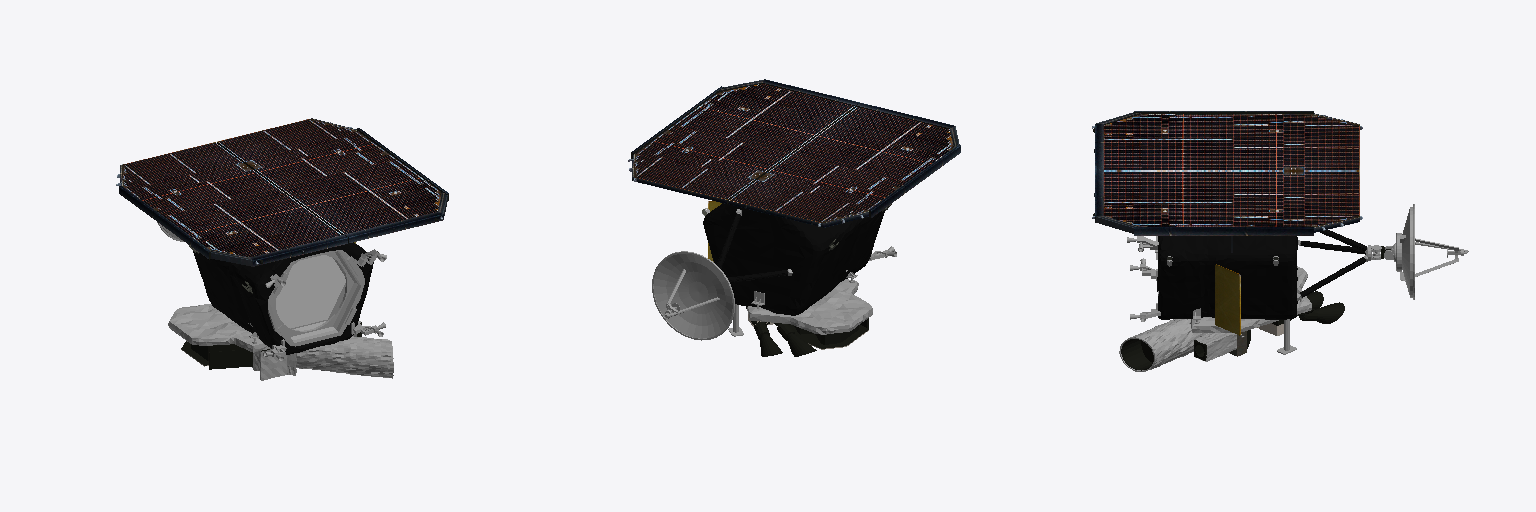
3 renders of one model, left to right at view 1: azimuth 30°, elevation 25°; view 2: azimuth 150°, elevation 25°; view 3: azimuth 270°, elevation 25°, orthographic.
Parts seen in each view (by area): view 1: shiny_panels_di_panel_l2.000, foil_gold_di_inst4.001, black_krinkle_di_flyby16.001, tex_01_Mesh.003, hole_AO_di_flyby16, _root_Cube; view 2: shiny_panels_di_panel_l2.000, black_krinkle_di_flyby16.001, tex_01_Mesh.003, dish_AO_di_dish2.002, foil_gold_di_inst4.001, hole_AO_di_flyby16; view 3: shiny_panels_di_panel_l2.000, black_krinkle_di_flyby16.001, tex_01_Mesh.003, foil_gold_di_inst4.001, dish_AO_di_dish2.002, hole_AO_di_flyby16.
Boxes of the visible parts, <box> form: shiny_panels_di_panel_l2.000: <box>120,118,441,256</box>; foil_gold_di_inst4.001: <box>168,304,393,380</box>; black_krinkle_di_flyby16.001: <box>193,242,373,354</box>; tex_01_Mesh.003: <box>116,119,448,369</box>; hole_AO_di_flyby16: <box>249,250,386,361</box>; _root_Cube: <box>248,255,345,327</box>; shiny_panels_di_panel_l2.000: <box>632,84,953,223</box>; black_krinkle_di_flyby16.001: <box>703,203,884,315</box>; tex_01_Mesh.003: <box>628,79,960,356</box>; dish_AO_di_dish2.002: <box>652,251,734,340</box>; foil_gold_di_inst4.001: <box>747,279,872,334</box>; hole_AO_di_flyby16: <box>728,209,896,336</box>; shiny_panels_di_panel_l2.000: <box>1104,113,1359,228</box>; black_krinkle_di_flyby16.001: <box>1157,230,1366,319</box>; tex_01_Mesh.003: <box>1092,111,1390,370</box>; foil_gold_di_inst4.001: <box>1119,266,1311,371</box>; dish_AO_di_dish2.002: <box>1384,204,1468,299</box>; hole_AO_di_flyby16: <box>1127,236,1381,354</box>.
Size of the model in its own units: 2.88 by 1.99 by 3.91.
Materials: 13 (2 with a texture image).